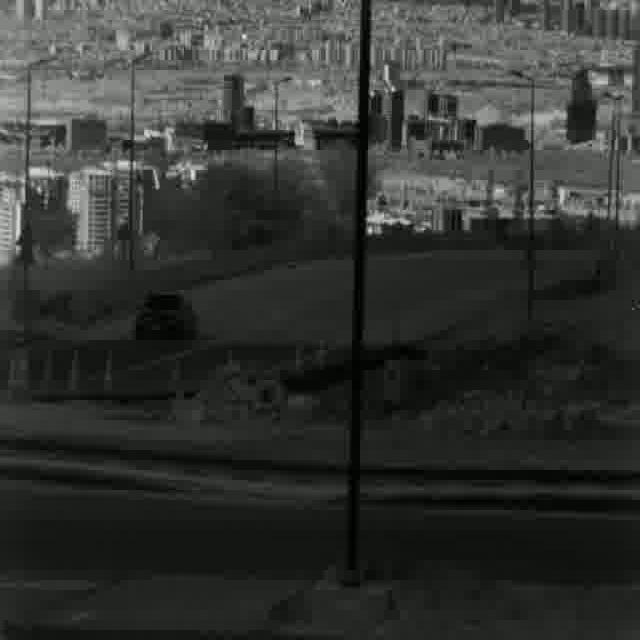Car: (132, 286, 200, 342)
